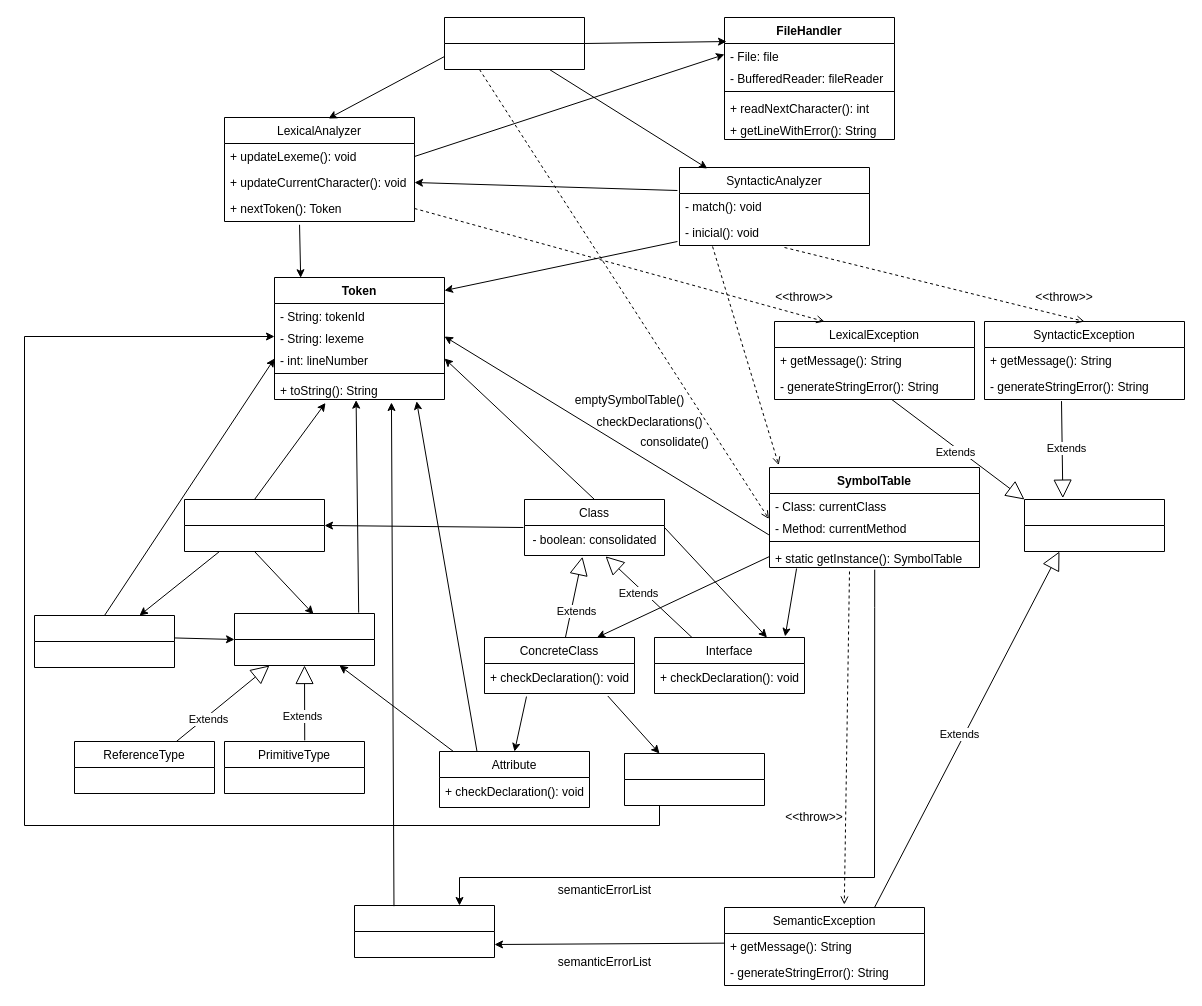
The diagram is 1202 pixels wide and 1006 high, and some of its shapes have lost their labels. The centre of each missing label's shape, as x and y in pixels:
Constructor: the point at 694,779
Exception: the point at 1094,525
MainModule: the point at 514,43
Method: the point at 254,525
Parameter: the point at 104,641
SemanticError: the point at 424,931
Type: the point at 304,639
